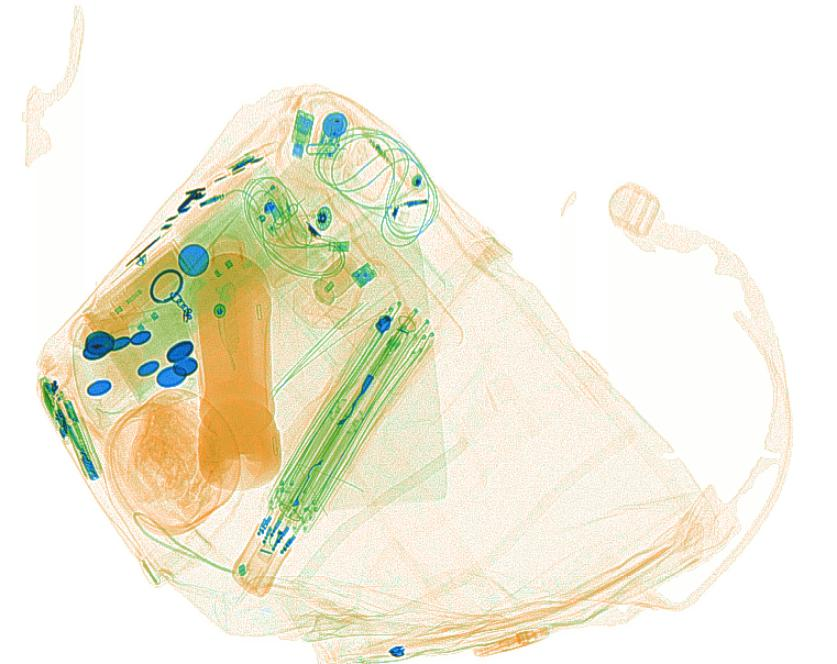plasticBottleWithaNozzle: (80, 237, 195, 347)
pressure: (306, 255, 361, 314)
